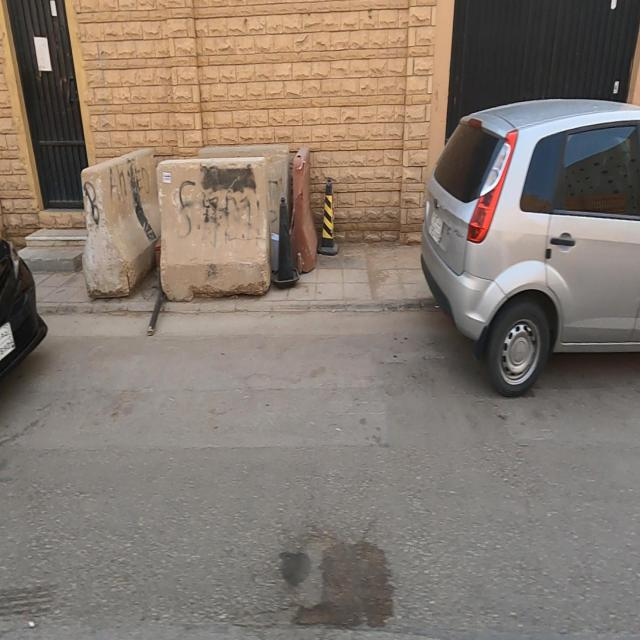Graffiti: (179, 165, 261, 255), (106, 167, 157, 206), (266, 176, 279, 225), (85, 184, 100, 226)
